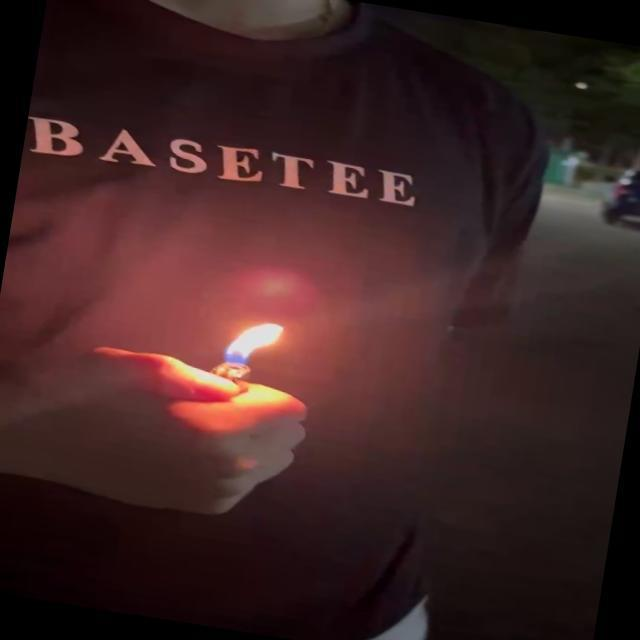Fire: (222, 317, 288, 372)
